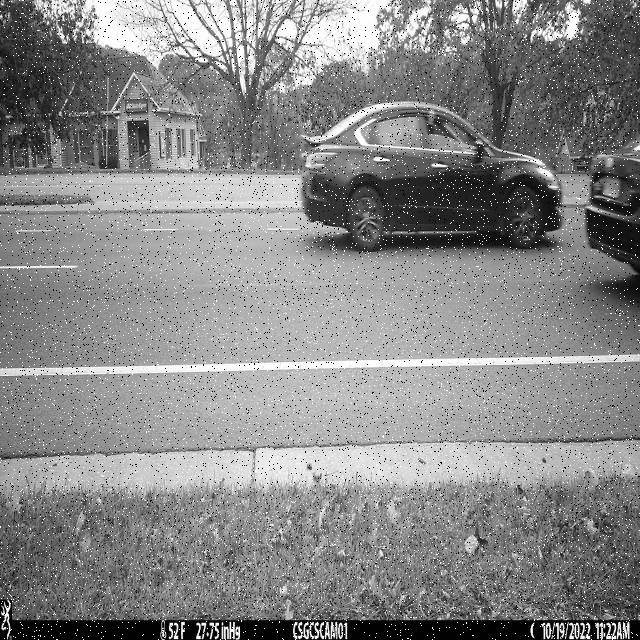Sedan: (300, 101, 564, 253)
